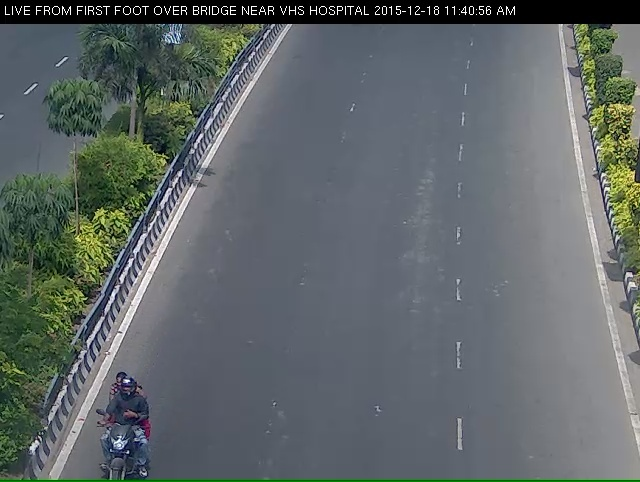Person: (86, 394, 144, 480)
